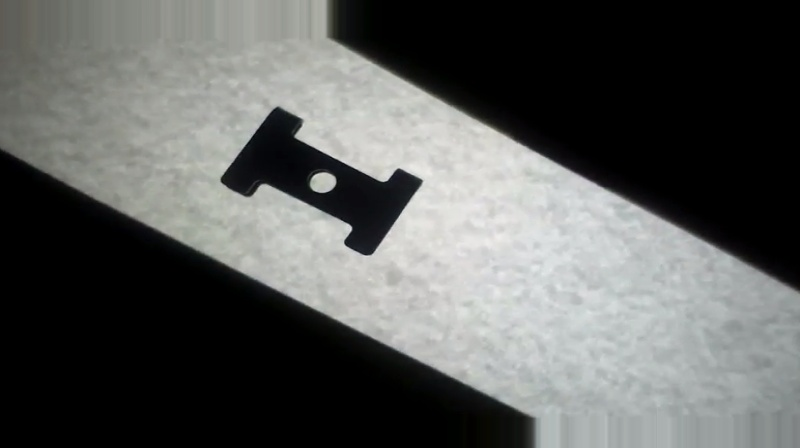O002: (218, 105, 428, 258)
